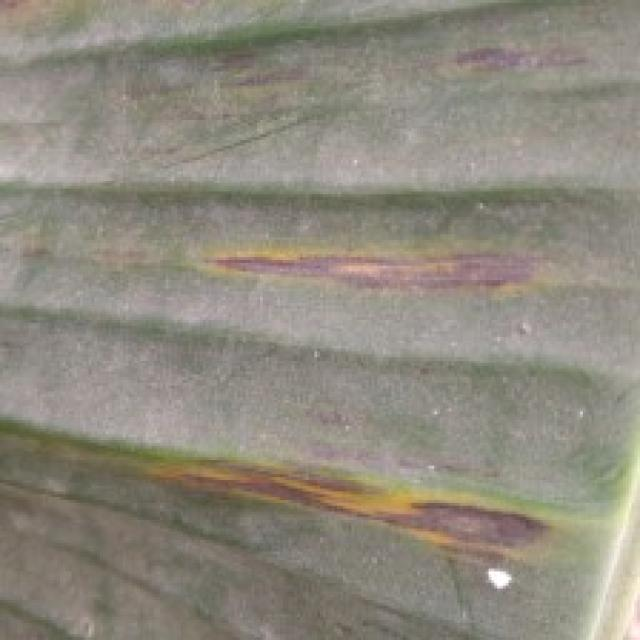Early_leaf_spot: (92, 428, 570, 577), (194, 204, 556, 314), (454, 23, 590, 76), (0, 0, 57, 54)
